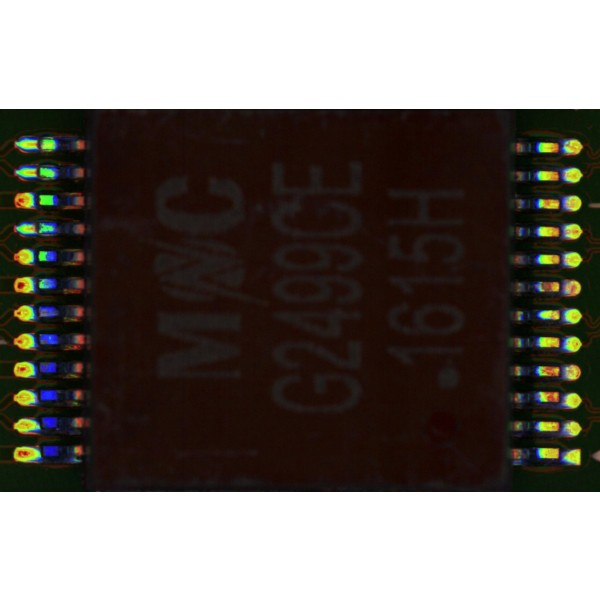Bad_podu: (24, 169, 46, 177), (25, 225, 49, 232), (28, 141, 51, 148)
